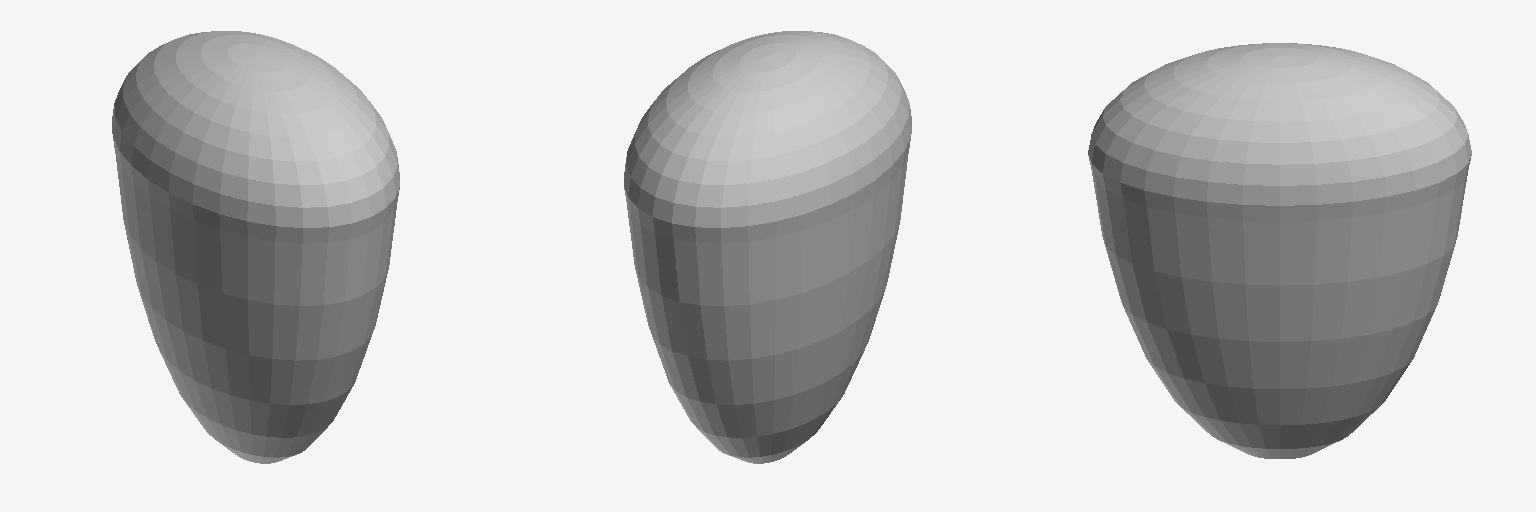
File: pilot_body.obj
3 views of the same model, side by side, from view 1: azimuth 30°, elevation 25°; view 2: azimuth 150°, elevation 25°; view 3: azimuth 270°, elevation 25° (orthographic).
Parts seen in each view (by area): view 1: Sphere.001; view 2: Sphere.001; view 3: Sphere.001.
Part boxes in pixels (bbox=[...]): Sphere.001: bbox=[112, 31, 399, 463]; Sphere.001: bbox=[624, 31, 911, 463]; Sphere.001: bbox=[1088, 43, 1471, 458].
Size of the model in its own units: 0.671 by 1.19 by 1.03.